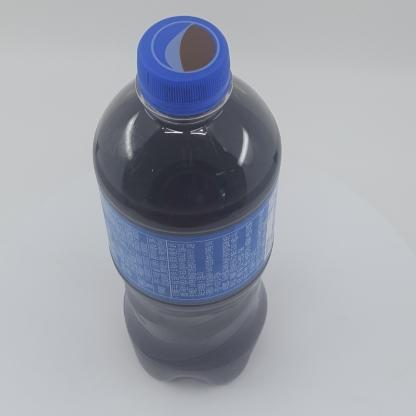------600ML: (93, 16, 281, 385)
